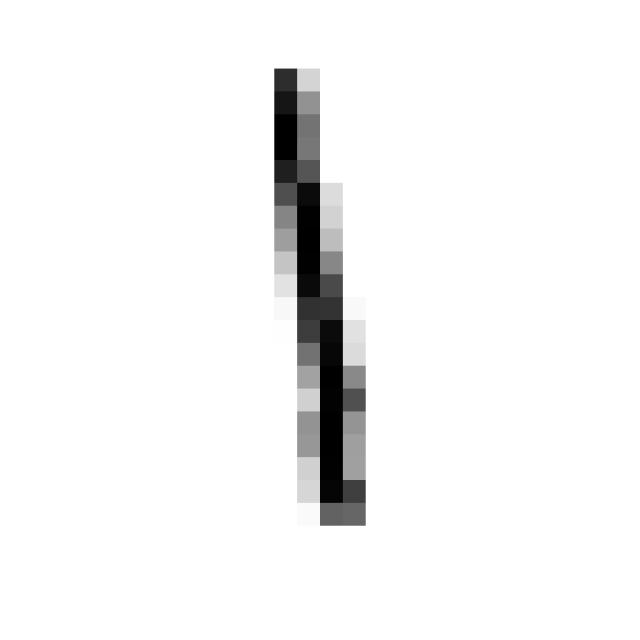1 -one-: (240, 53, 392, 543)
